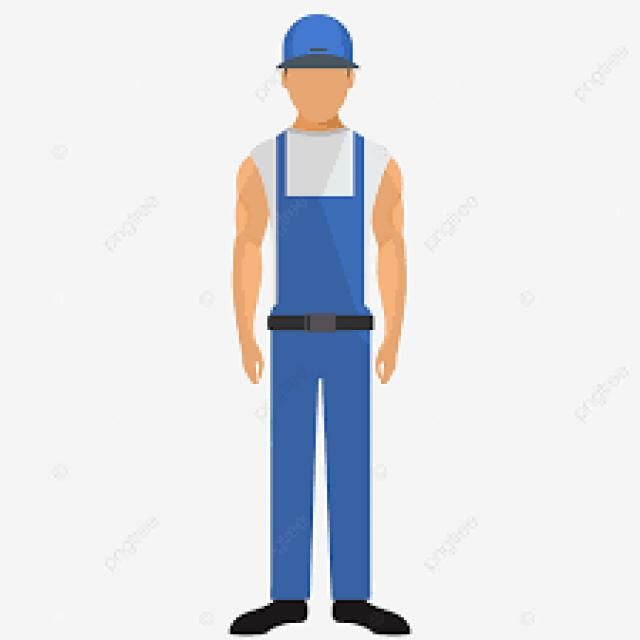Safety-Helmet: (273, 11, 361, 74)
